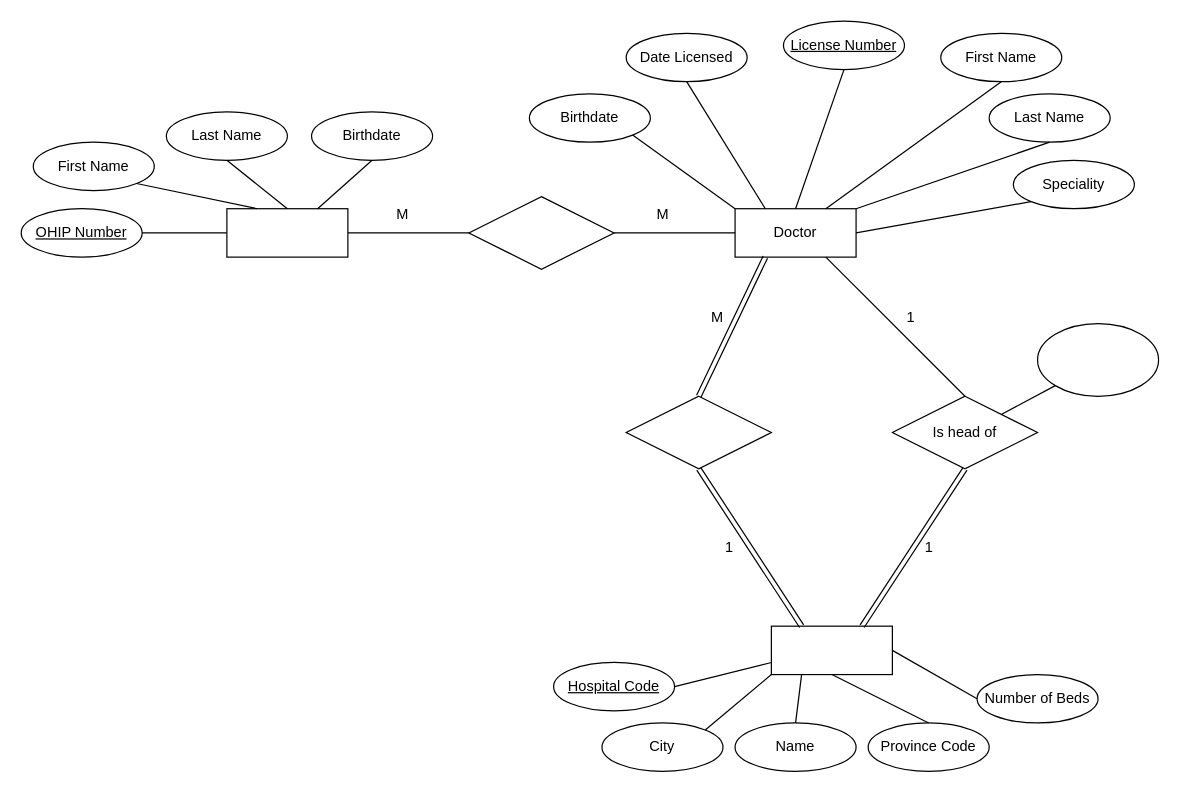
Image size: 1180x793. Some labels were removed from this diagram. The centre of each missing label's shape, as x and y in pixels:
Assigned to: pixel 541 232
Date Started as Head: pixel 1097 359
Hospital: pixel 831 650
Patient: pixel 287 232
Works out of: pixel 698 432
